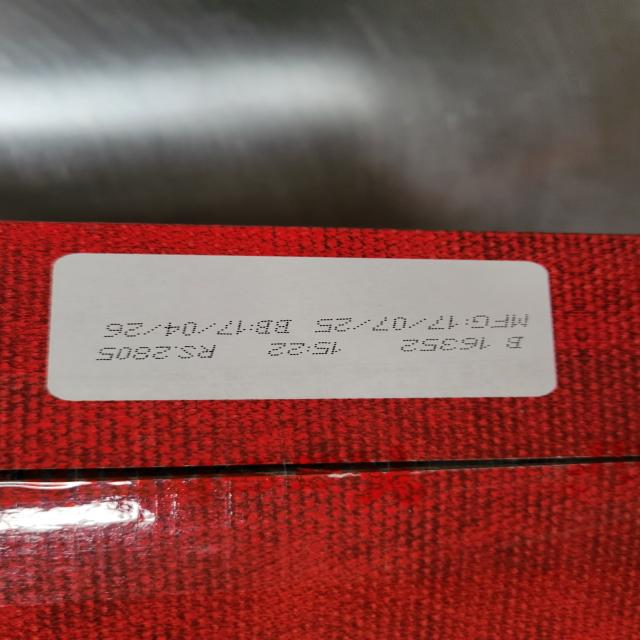BB: (104, 321, 298, 335)
Batch: (398, 336, 534, 351)
MFG: (310, 315, 549, 333)
RS: (94, 343, 225, 362)
TimeStamp: (261, 340, 345, 360)
